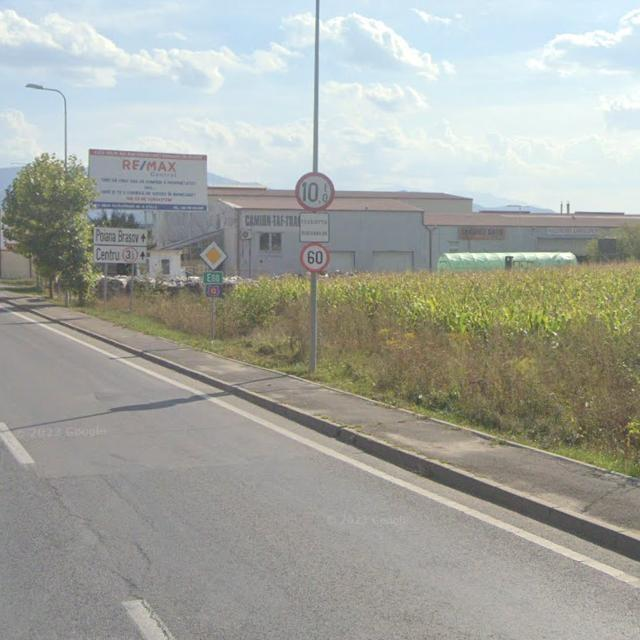forb_speed_over_60: (300, 242, 330, 273)
